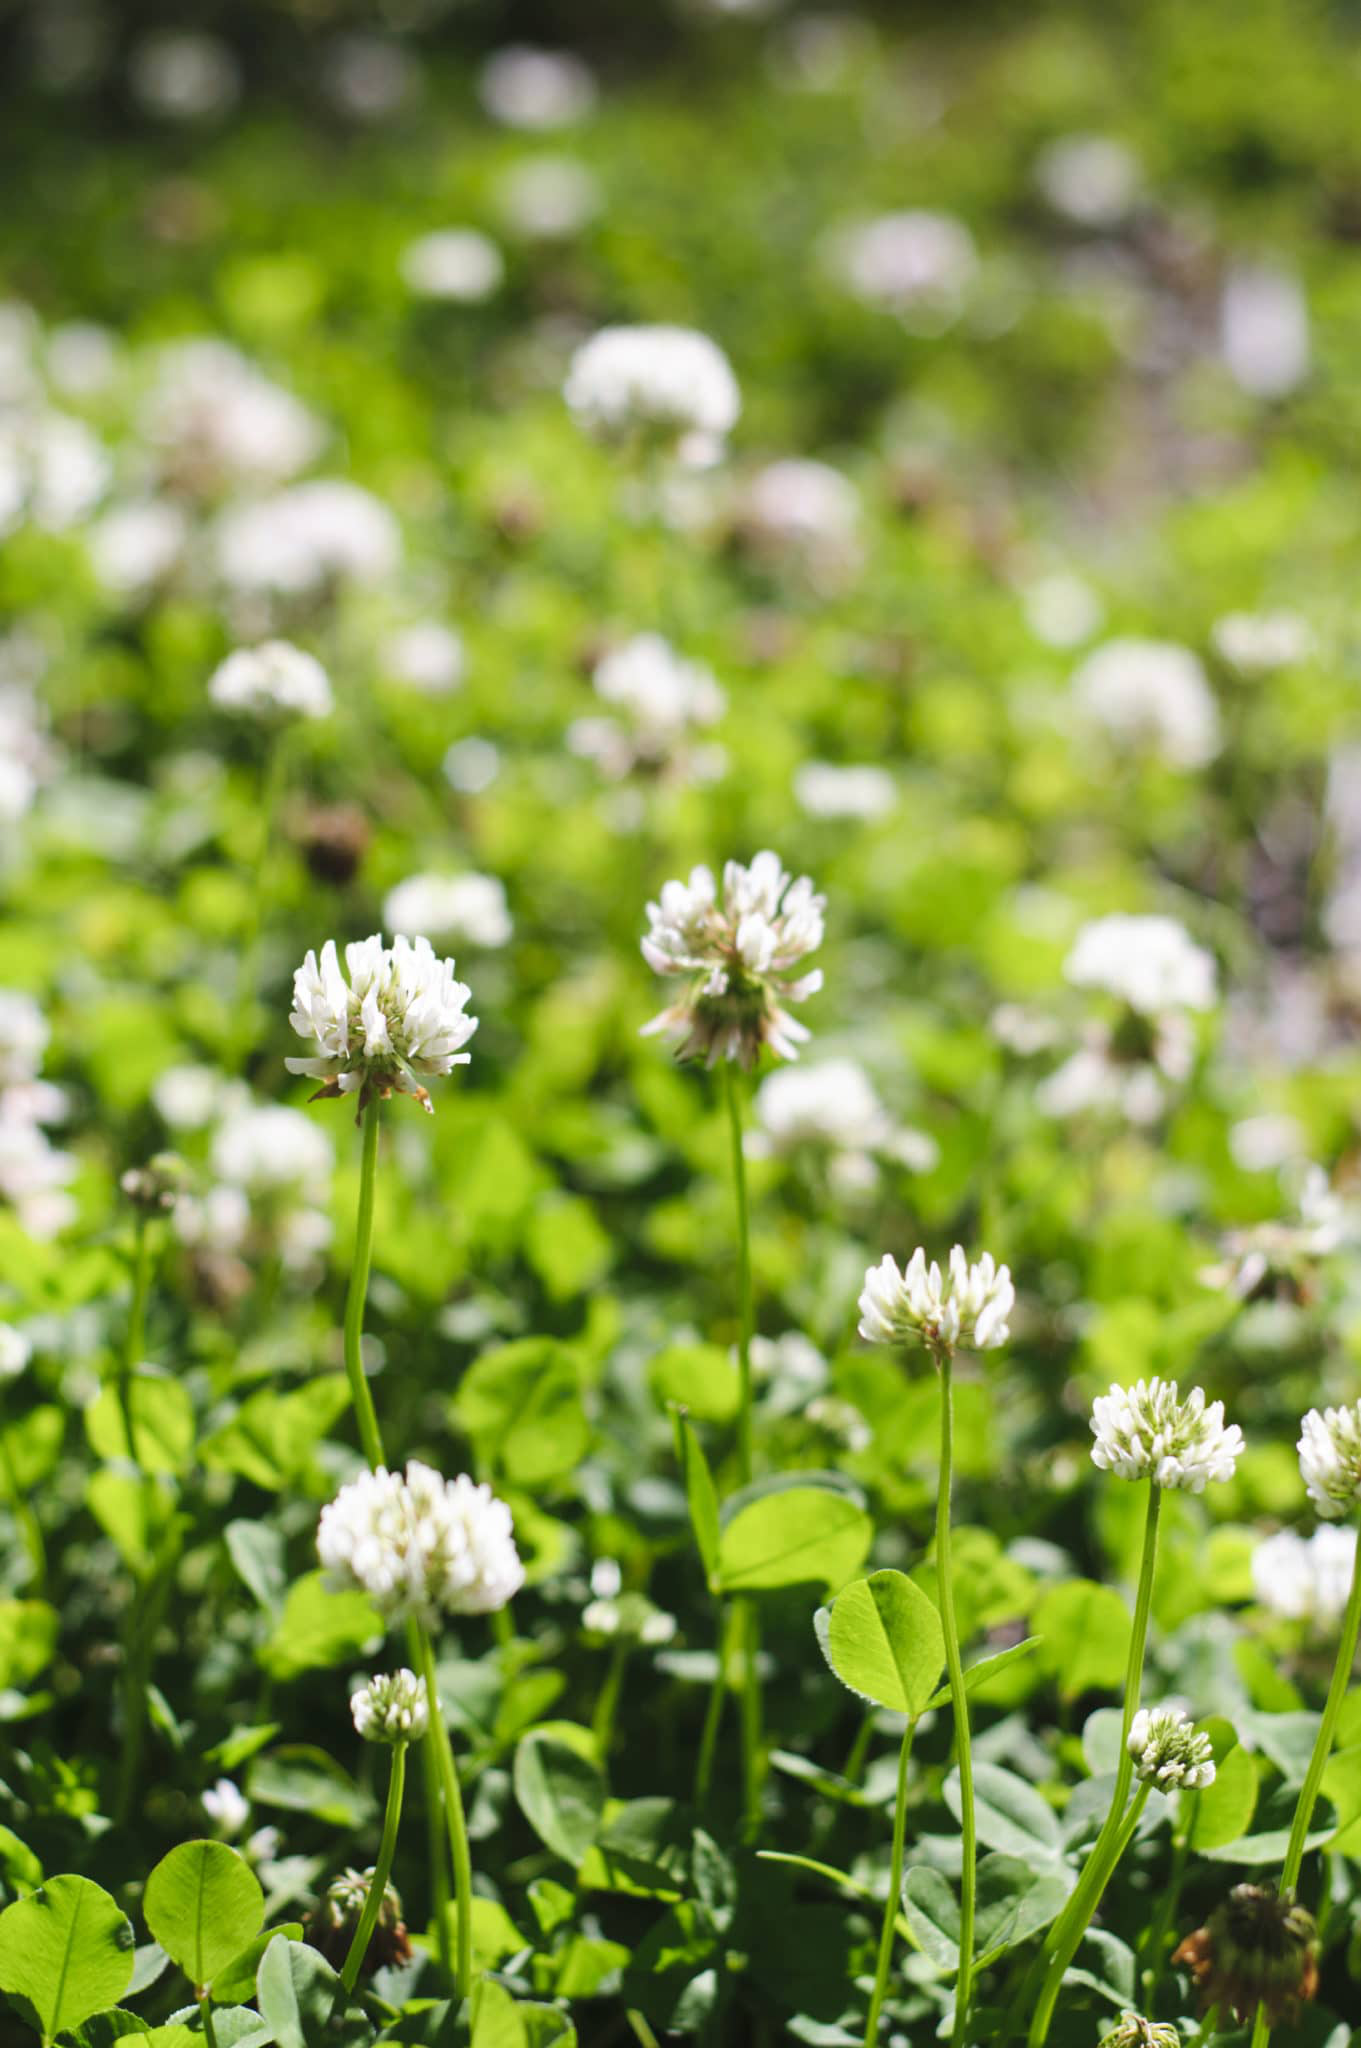clover: (55, 837, 1347, 2042)
